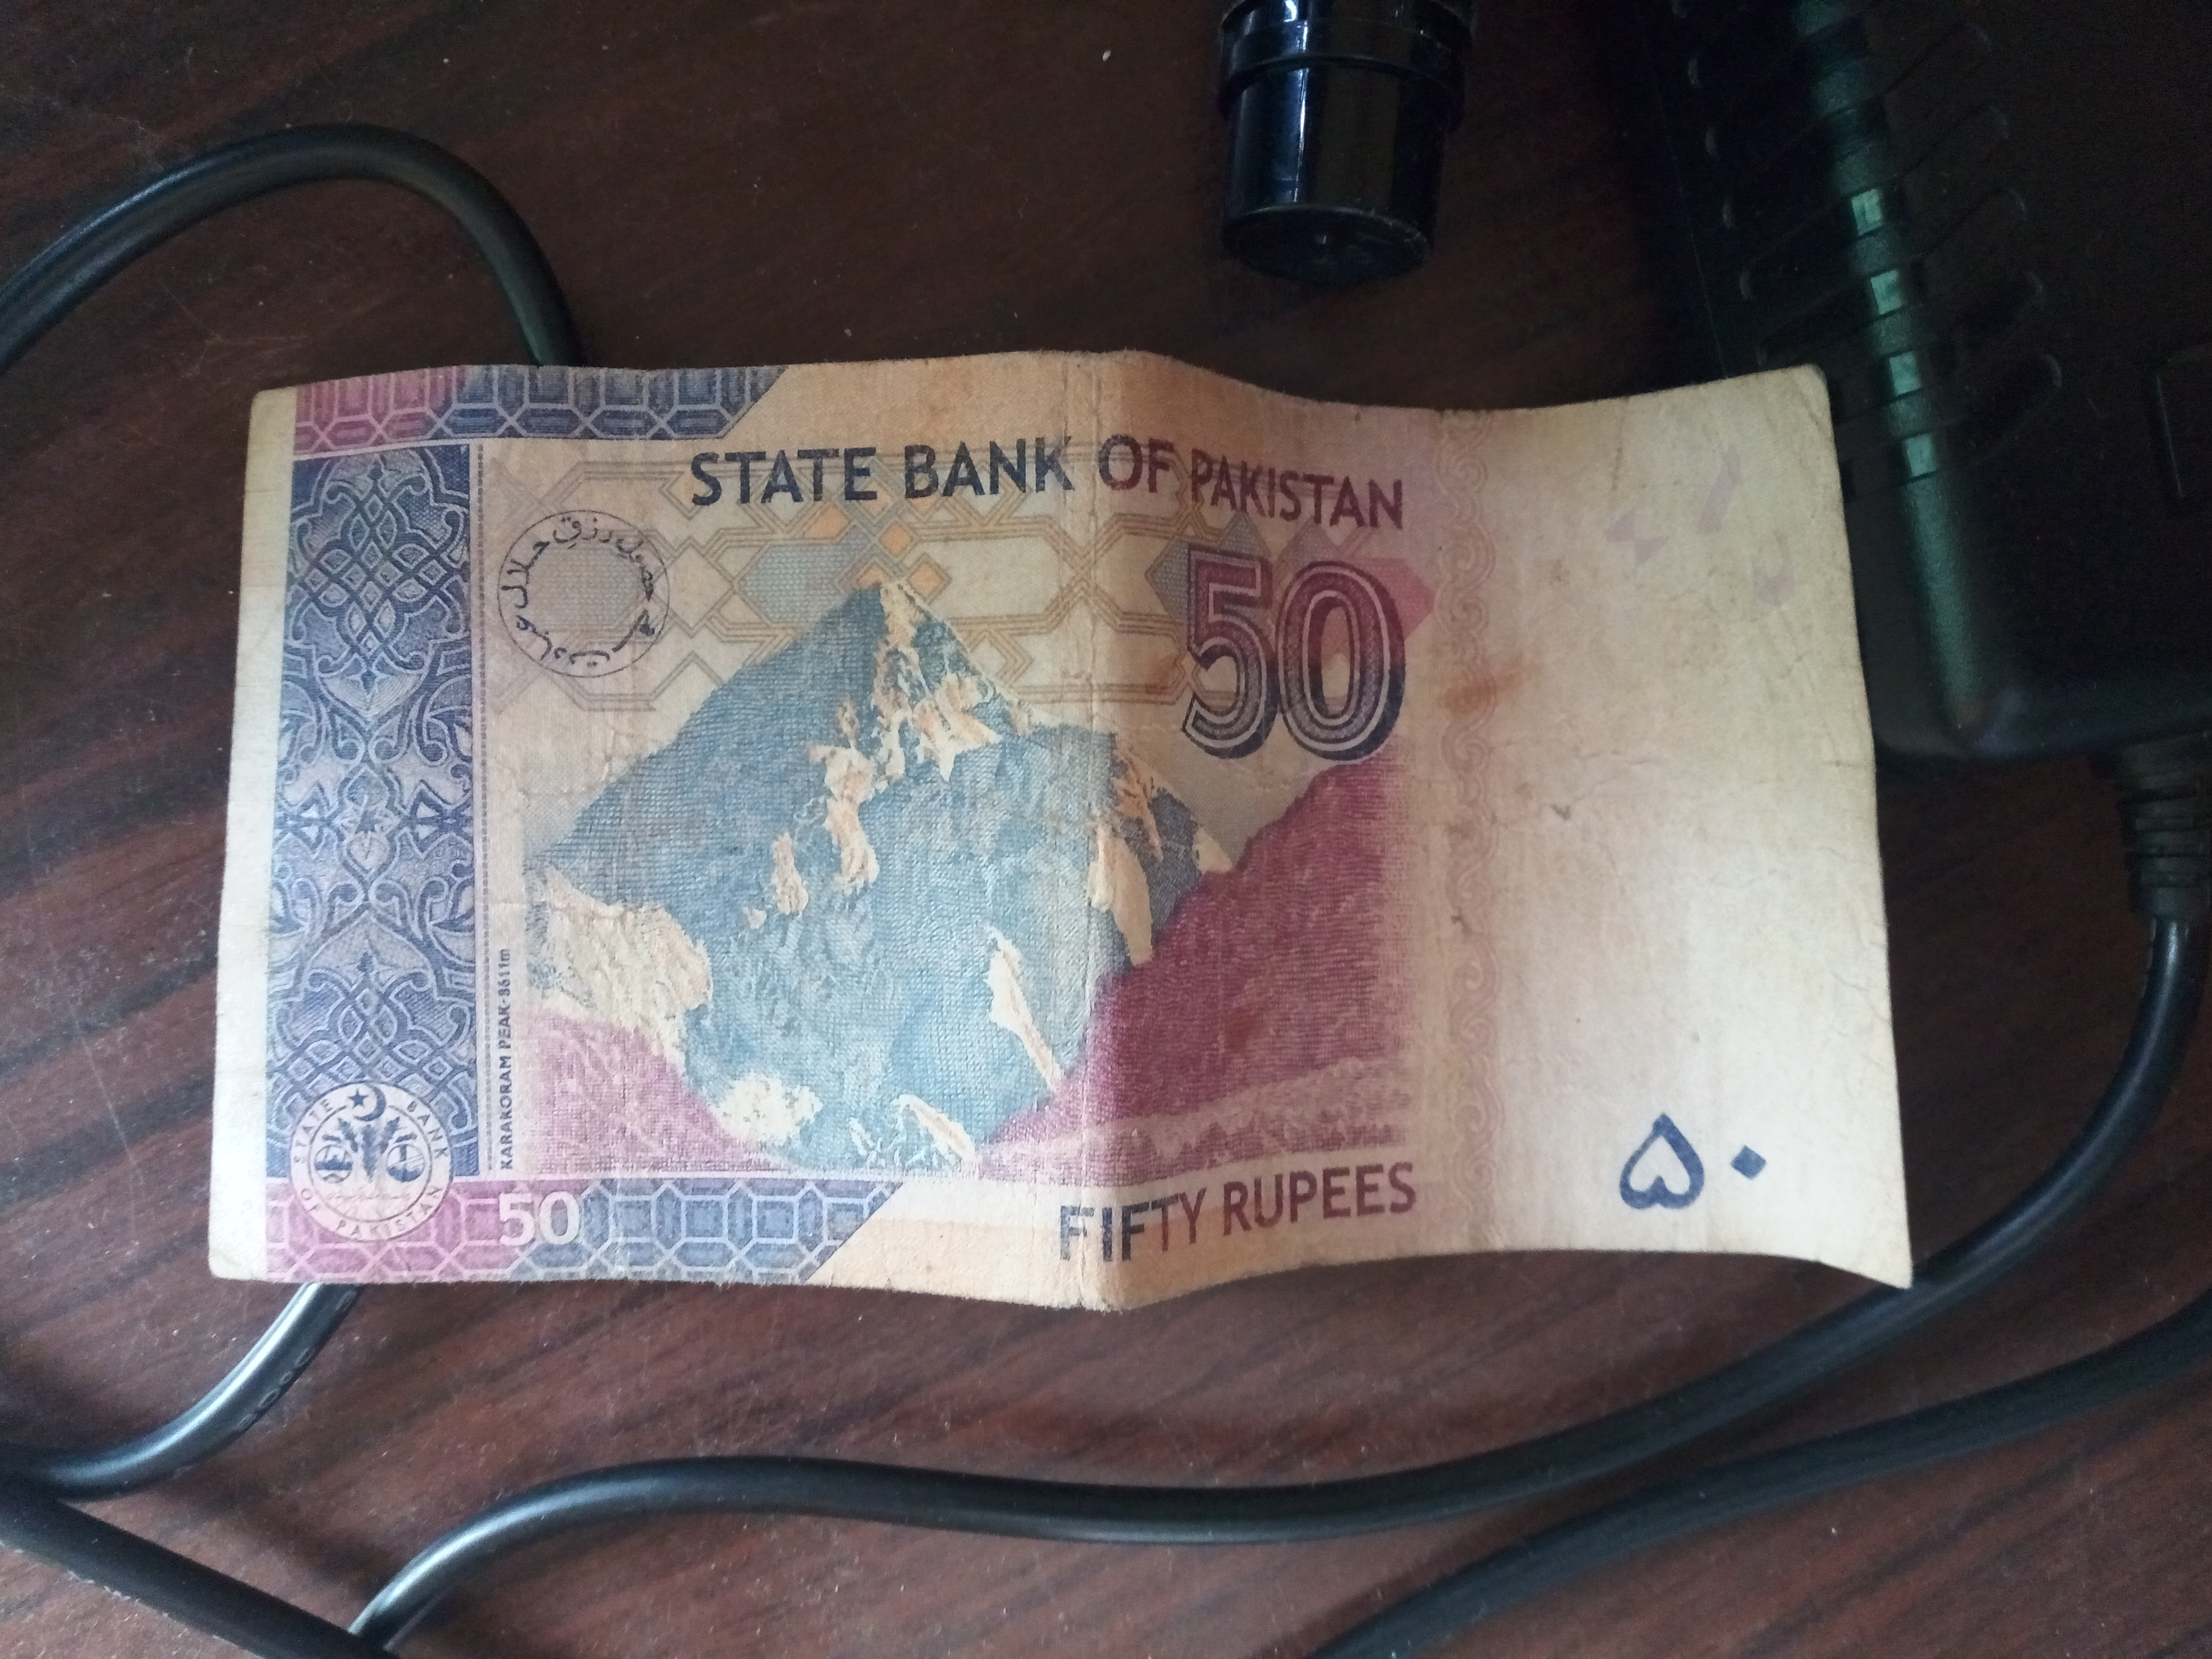50 rupee: (181, 328, 1993, 1380)
